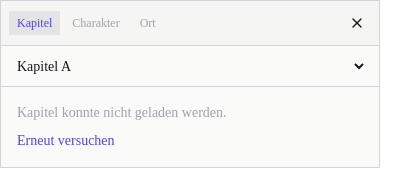
Test: shows a retry option when loading fails
The image size is (397, 185).
Expected: the message shows "Kapitel konnte nicht geladen werden", [17,105,226,120]
Click the button "Erneut versuchen".
click(66, 141)  # box [17,131,115,151]
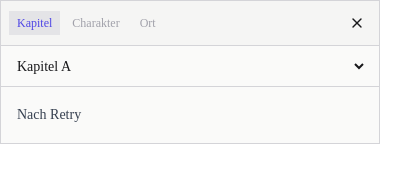
Result: the text "Nach Retry" is shown at [17,107,81,122]
